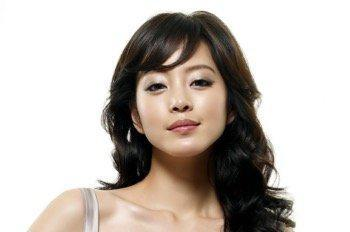Sober: (136, 52, 222, 150)
